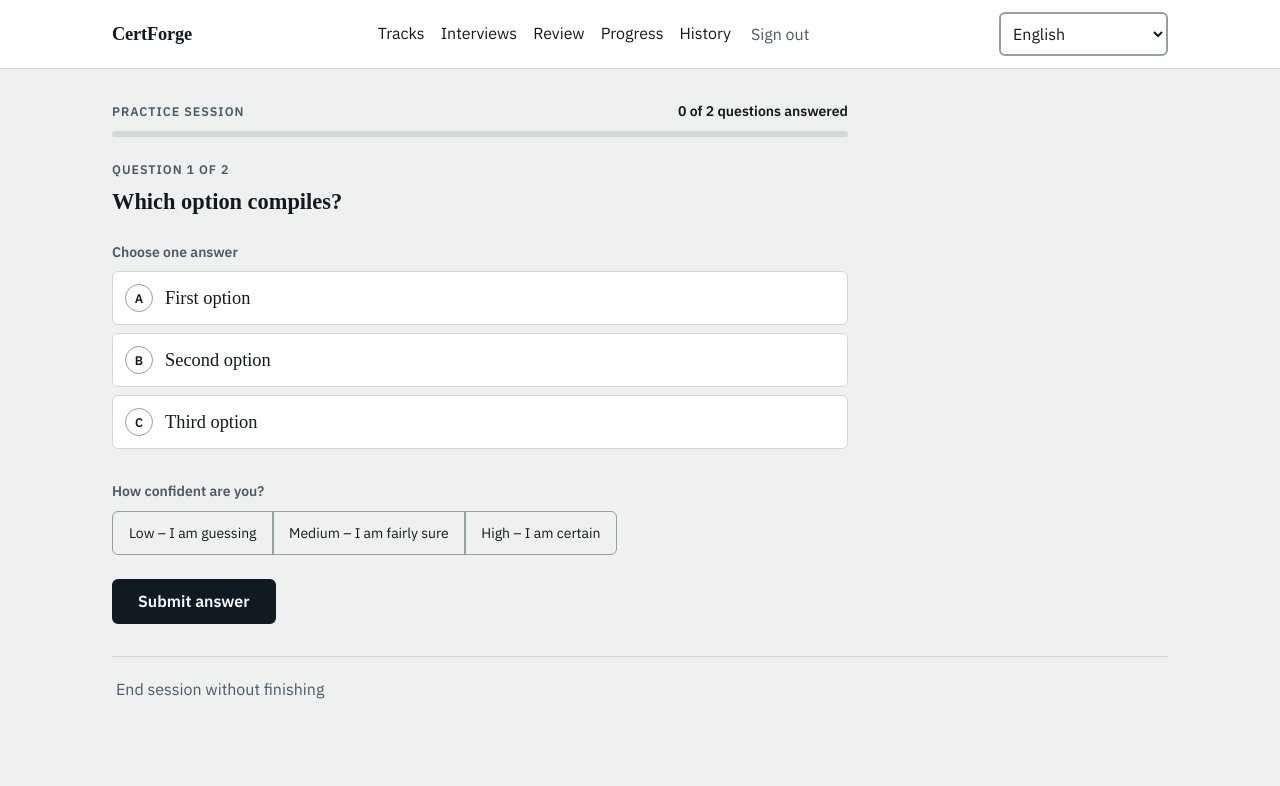
Scenario: answering questions › submits with an idempotency key, then shows the result and moves focus to it
Check: the heading "Question 1 of 2" is shown, box [112,161,230,177]
Click the radio button labelled "First option": (208, 304) [165,288,250,321]
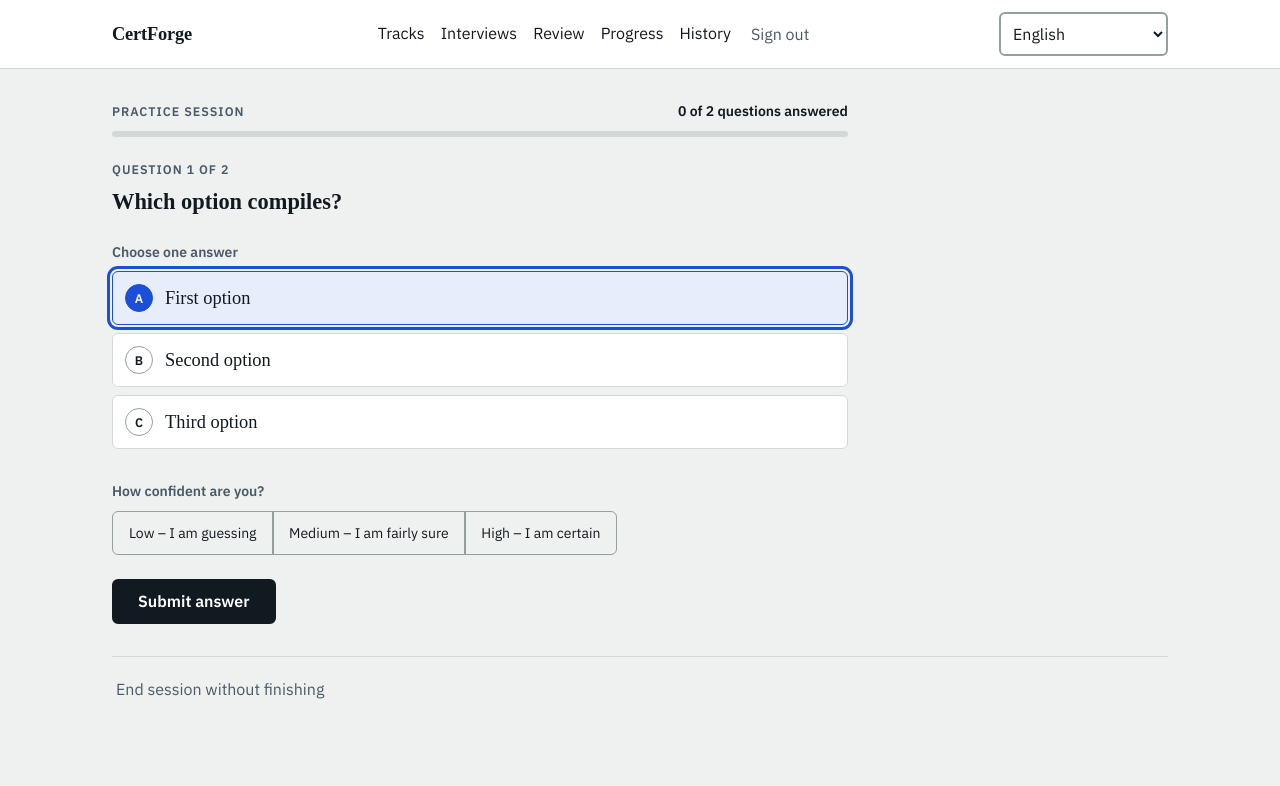
Click the radio button labelled "Medium – I am fairly sure": (369, 533) [272,511,466,555]
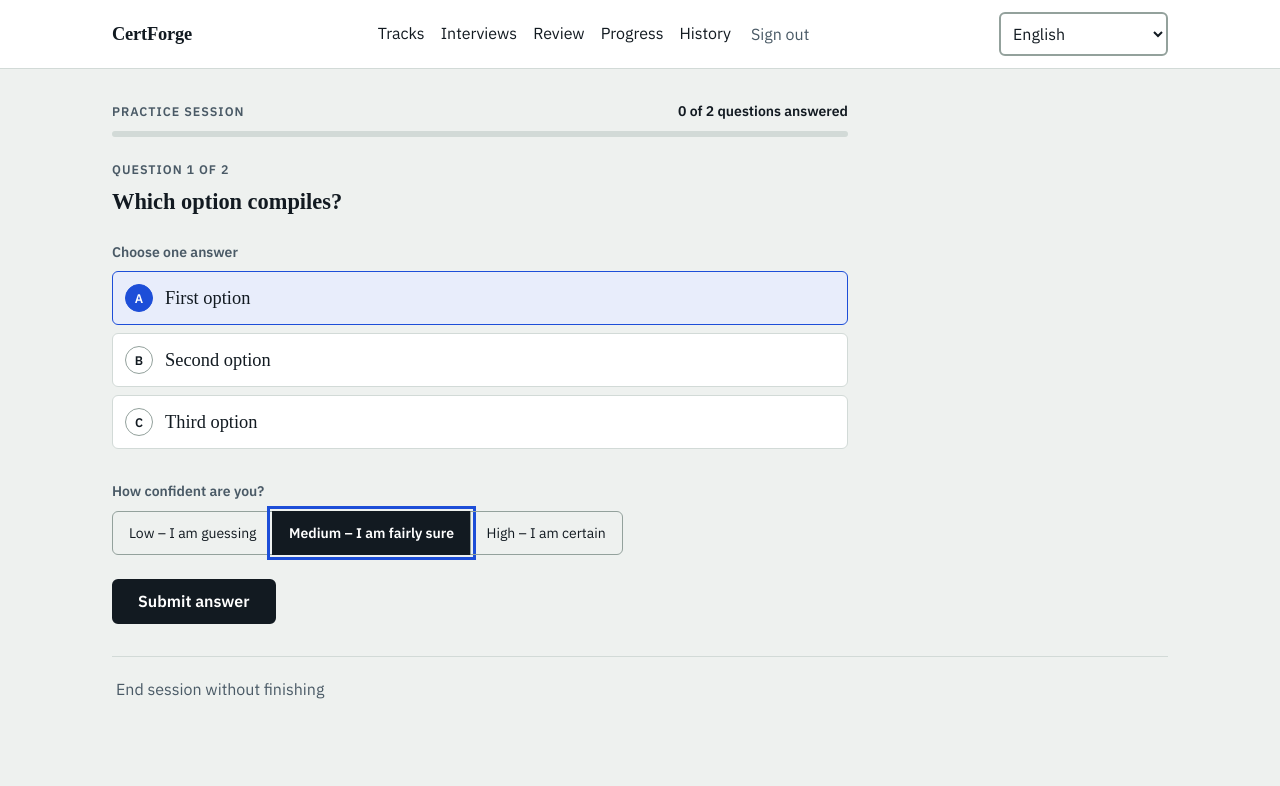
Click the button "Submit answer": (194, 601) [112,579,276,624]
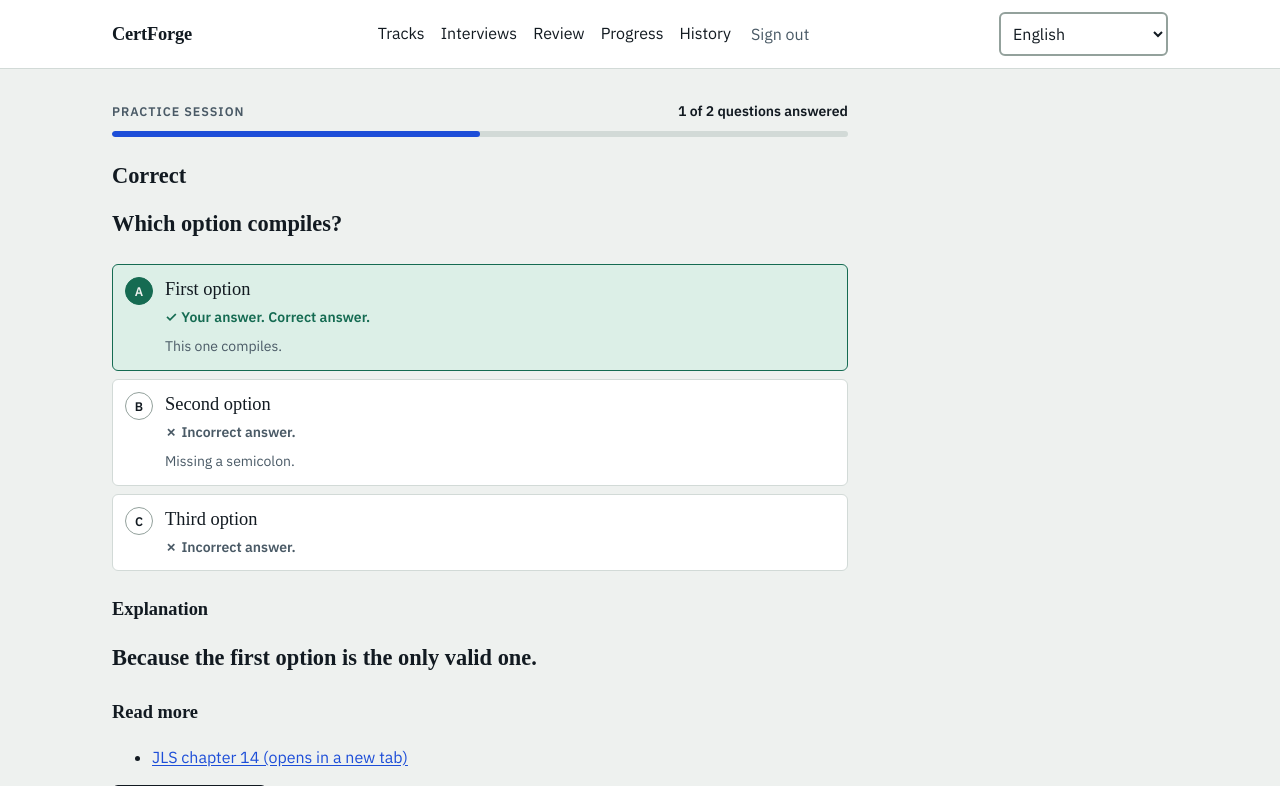
Check: the text "Because the first option is the only valid one." is shown, box [112,645,537,670]
Check: the text "✓ Your answer. Correct answer." is shown, box [165,308,370,326]
